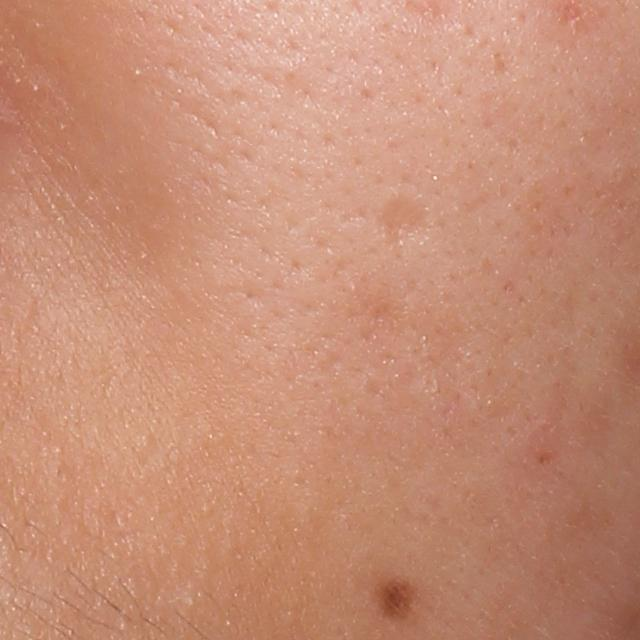atrophic_scar: (377, 188, 436, 254)
nevus: (372, 574, 419, 625)
